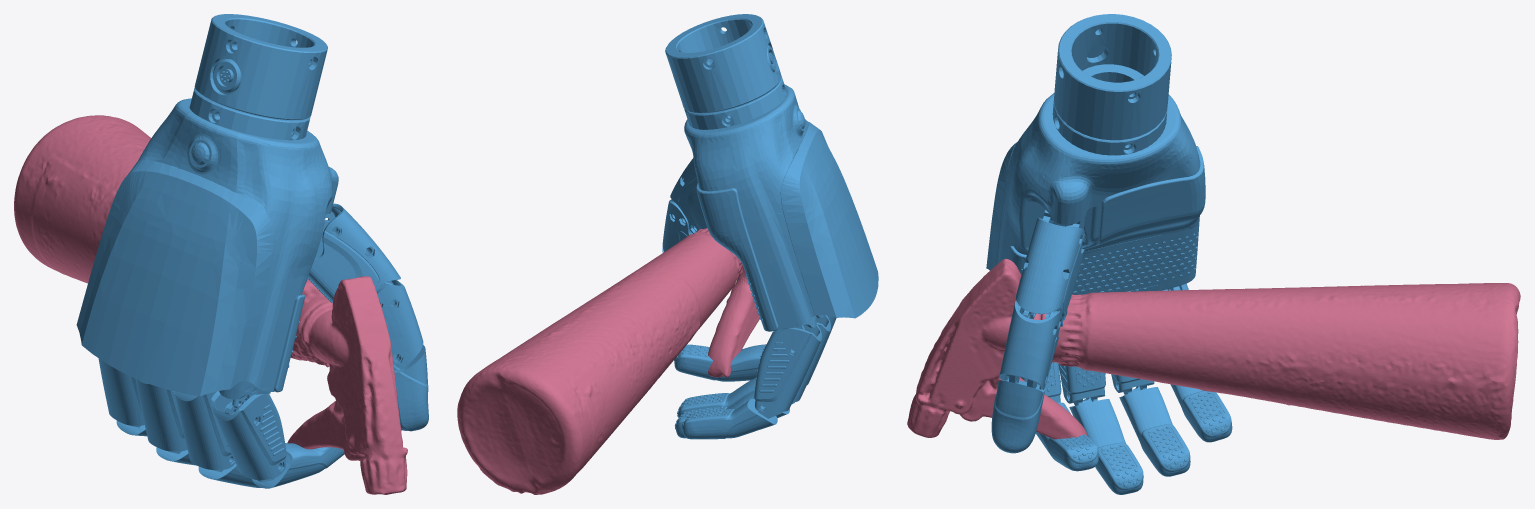
3 renders of one model, left to right at view 1: azimuth 30°, elevation 25°; view 2: azimuth 150°, elevation 25°; view 3: azimuth 270°, elevation 25°, orthographic. The views are drawn at different scales.
Visible parts, largest first — view 1: 5; view 2: 5; view 3: 5.
Part boxes in pixels (x1,y1,x2,y2): 5: (14, 14, 428, 494); 5: (457, 14, 878, 494); 5: (907, 14, 1520, 494).
Bounding box in the file's own units: 0.1345 × 0.2153 × 0.2685.
